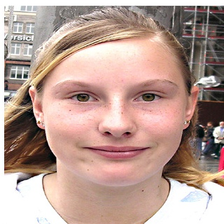no_mask: (37, 51, 197, 185)
